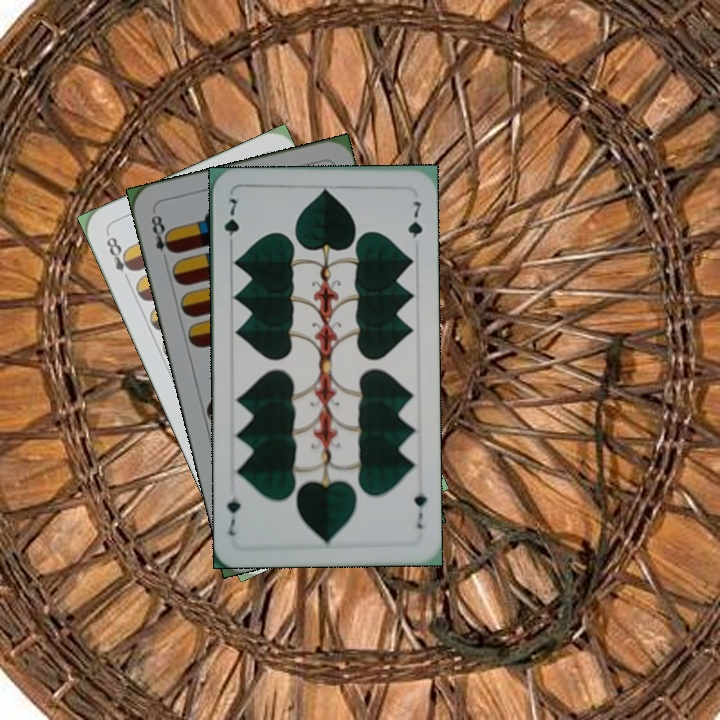E8: (102, 232, 138, 286), (147, 208, 177, 256)
G7: (220, 194, 242, 251), (410, 488, 429, 531)
